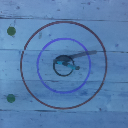Axe Tip: (61, 58, 71, 61)
